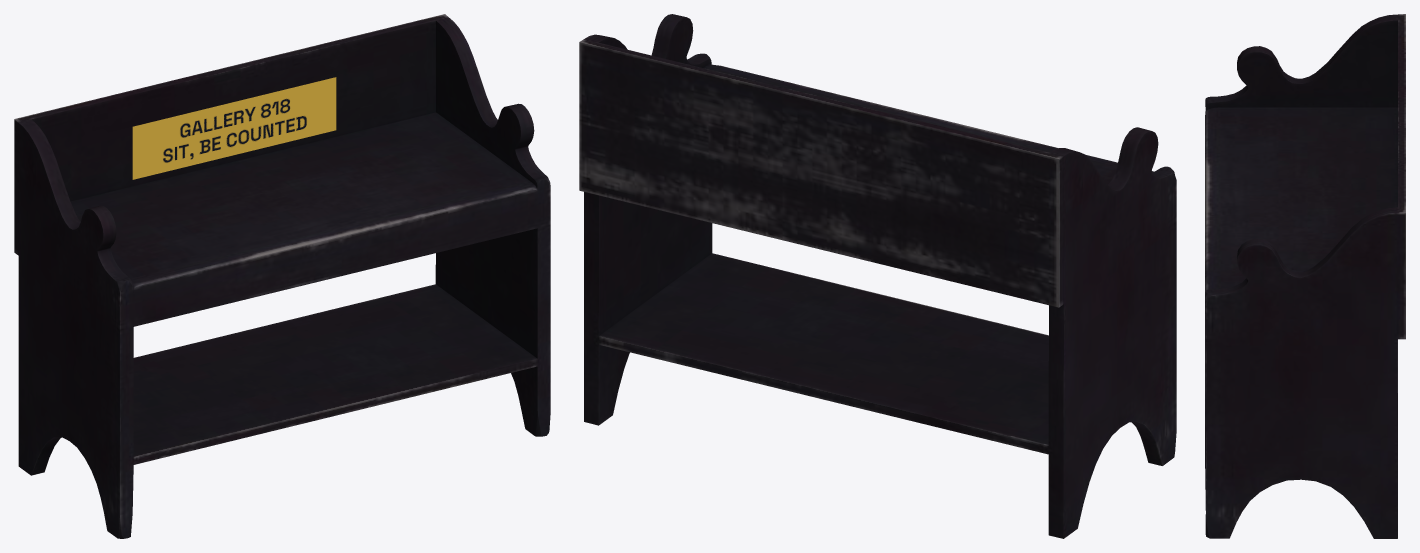
The model's file is nyb_crown_bench.glb.
The picture shows the model from 3 angles, left to right: view 1: azimuth 30°, elevation 25°; view 2: azimuth 150°, elevation 25°; view 3: azimuth 270°, elevation 25°; orthographic projection. The views are drawn at different scales.
Parts seen in each view (by area): view 1: painted_wooden_bench, stk_lbl_35c6cc9478.png; view 2: painted_wooden_bench; view 3: painted_wooden_bench.
Part boxes in pixels (box(x1,y1,x2,y2)): painted_wooden_bench: box(14, 14, 550, 538); stk_lbl_35c6cc9478.png: box(132, 77, 336, 179); painted_wooden_bench: box(579, 14, 1176, 538); painted_wooden_bench: box(1205, 14, 1405, 538).
Size of the model in its own units: 1.16 by 0.8893 by 0.4965.
Materials: 2 (2 with a texture image).
